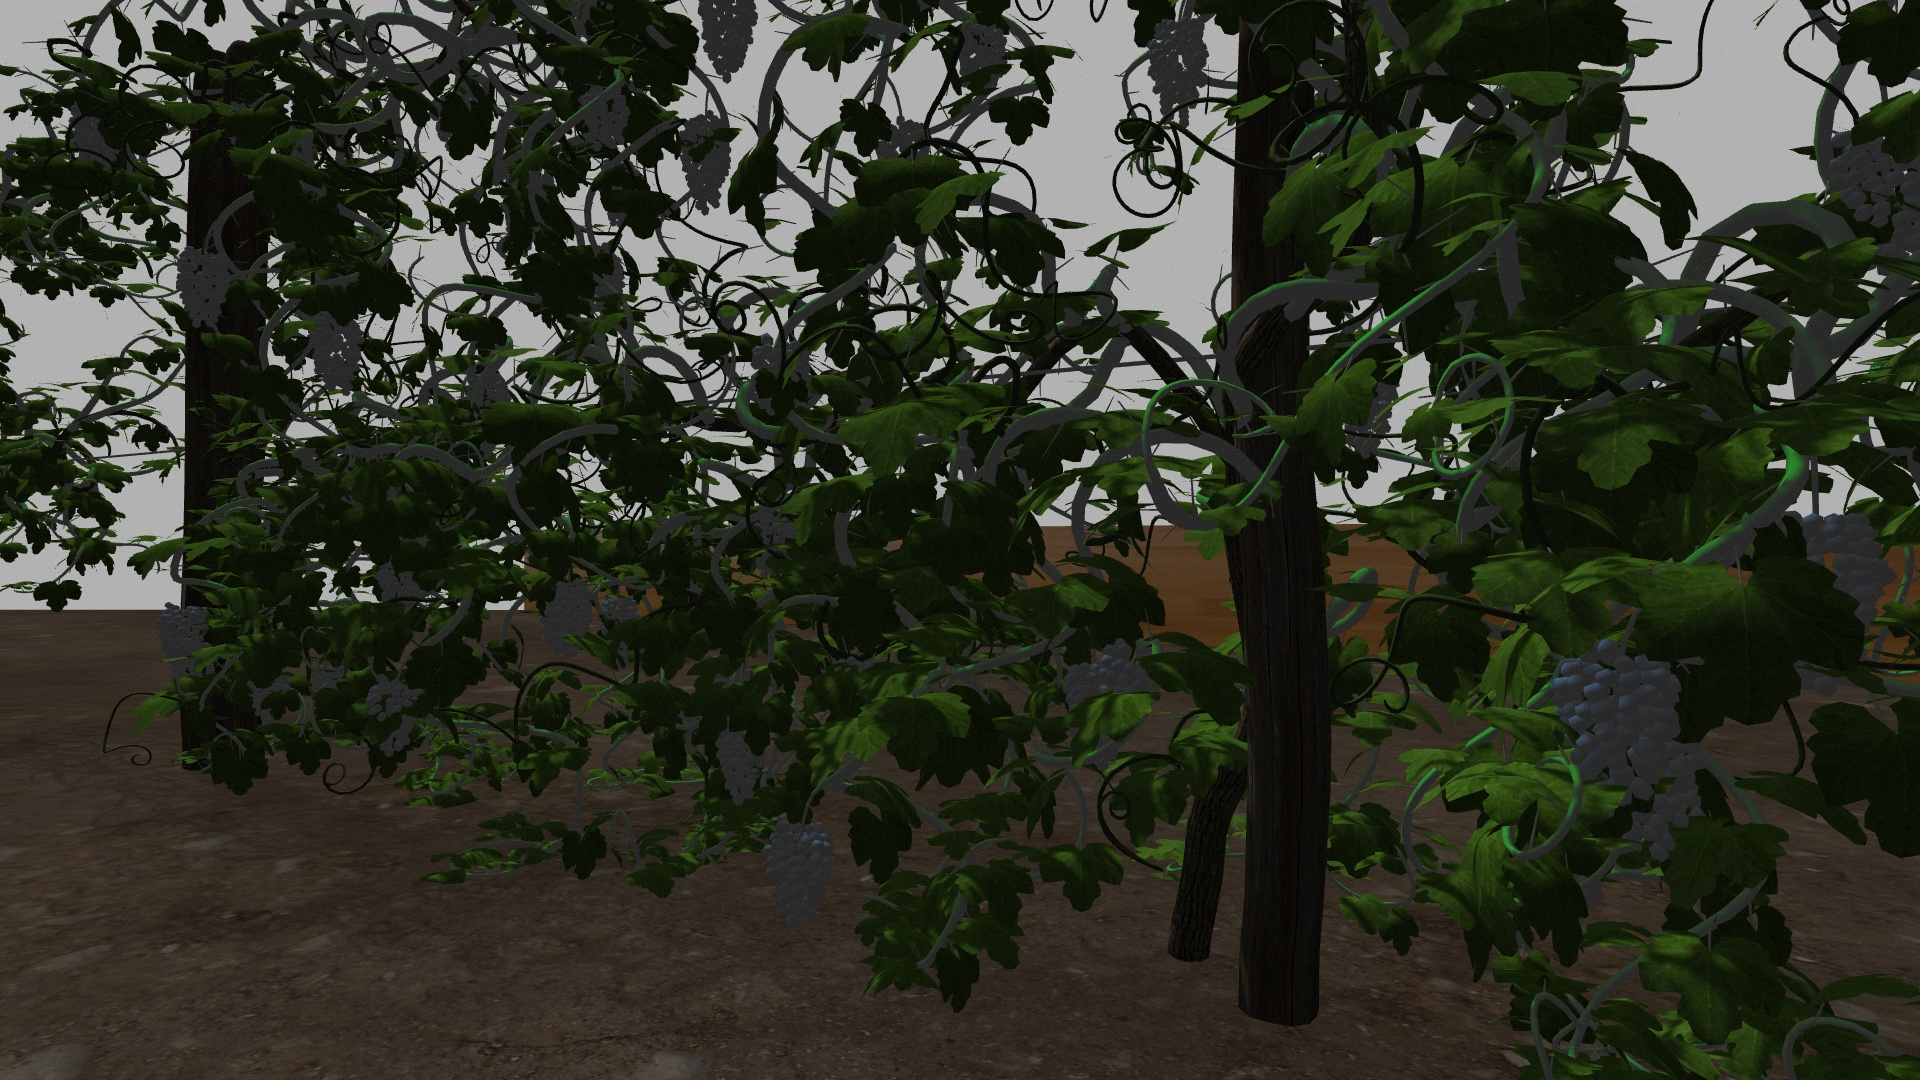grape: (1557, 637, 1636, 789), (1068, 640, 1154, 767), (1803, 510, 1896, 625), (1626, 650, 1681, 803), (1636, 742, 1701, 861), (765, 812, 832, 924), (1143, 17, 1211, 127), (1832, 137, 1900, 225), (679, 109, 733, 216), (307, 310, 365, 397), (174, 245, 232, 328), (699, 7, 760, 86), (956, 15, 1007, 102), (539, 576, 593, 658), (156, 601, 210, 679), (367, 673, 415, 756), (717, 725, 766, 807), (582, 80, 632, 152)
